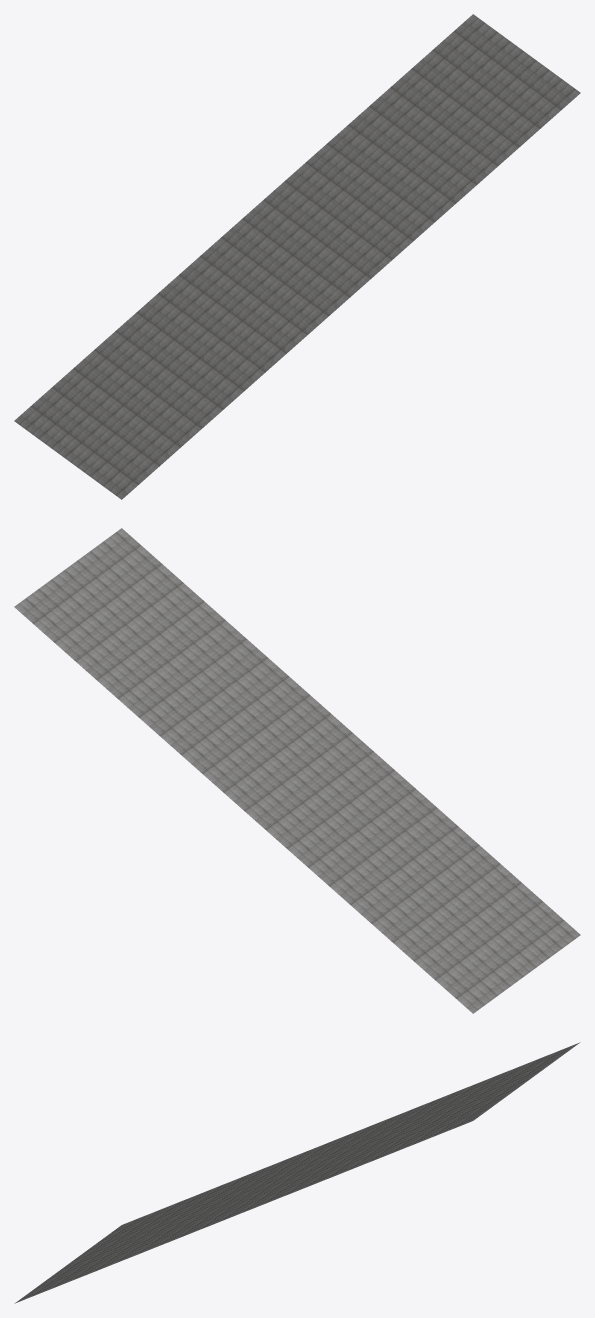
File: SM_ICE00_00.fbx
3 views of the same model, one above another, from view 1: azimuth 30°, elevation 25°; view 2: azimuth 150°, elevation 25°; view 3: azimuth 330°, elevation 25° (orthographic).
Visible parts, largest first — view 1: SM_ICE00_00; view 2: SM_ICE00_00; view 3: SM_ICE00_00.
Boxes of the visible parts, x1,y1,x2,y2 form: SM_ICE00_00: (14,14,580,499); SM_ICE00_00: (14,528,580,1013); SM_ICE00_00: (14,1042,580,1303).
Size of the model in its own units: 8201 by 5034 by 3335.
